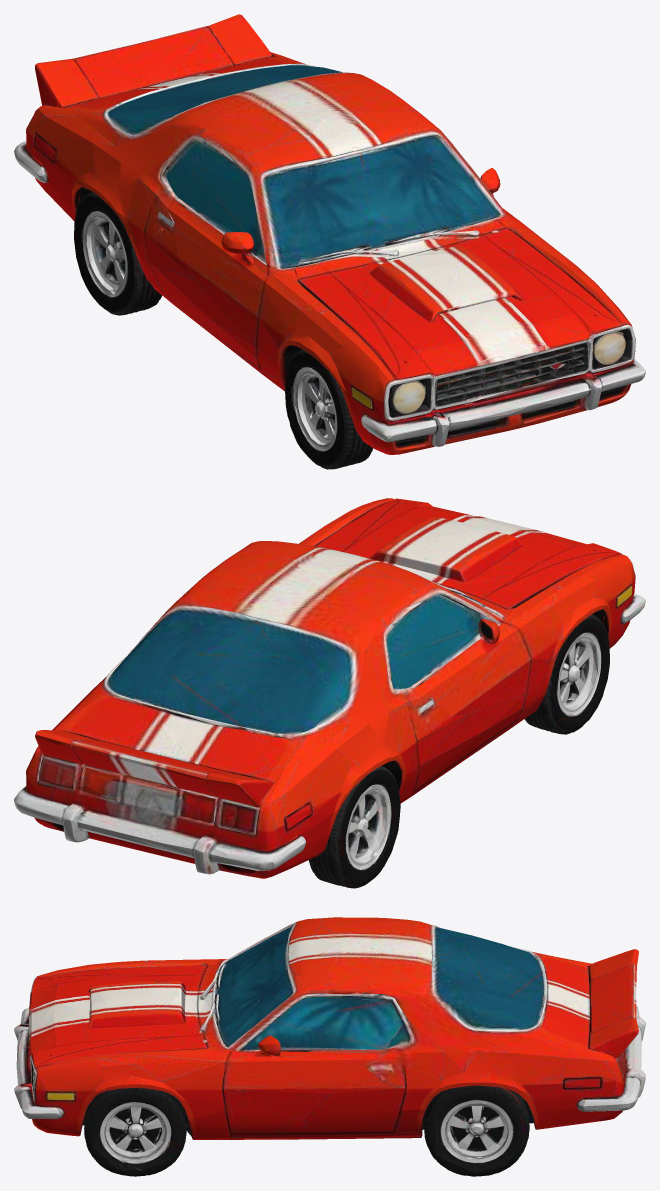
File: car_muscle2.glb
3 renders of one model, top to bottom at view 1: azimuth 30°, elevation 25°; view 2: azimuth 150°, elevation 25°; view 3: azimuth 270°, elevation 25°, orthographic. The views are drawn at different scales.
Bounding box in the file's own units: 1.86 × 1.41 × 4.5.
Materials: 1 (1 with a texture image).
